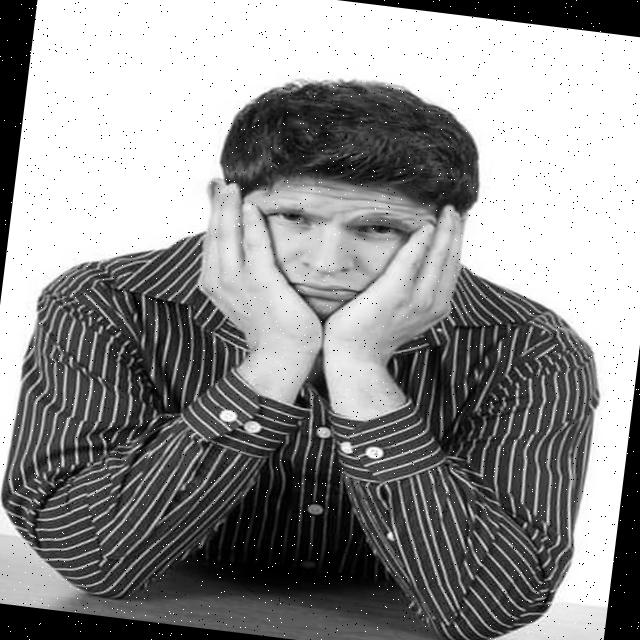Sadness: (250, 173, 428, 327)
